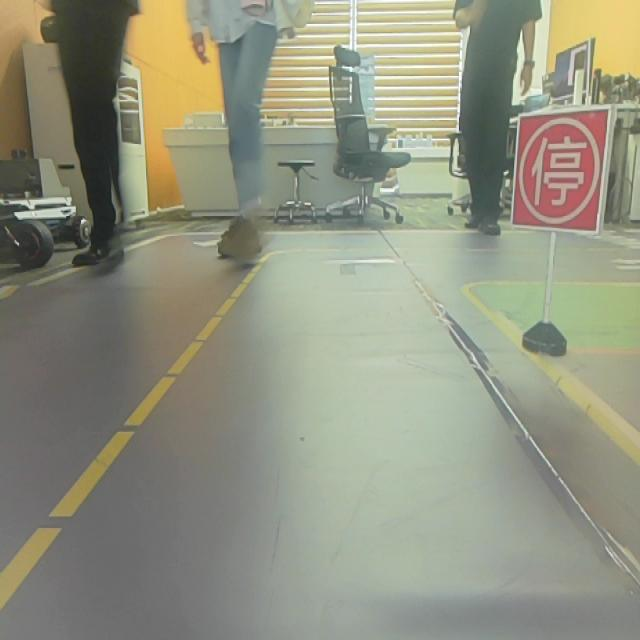left_lane: (0, 254, 270, 609)
right_lane: (464, 289, 640, 467)
